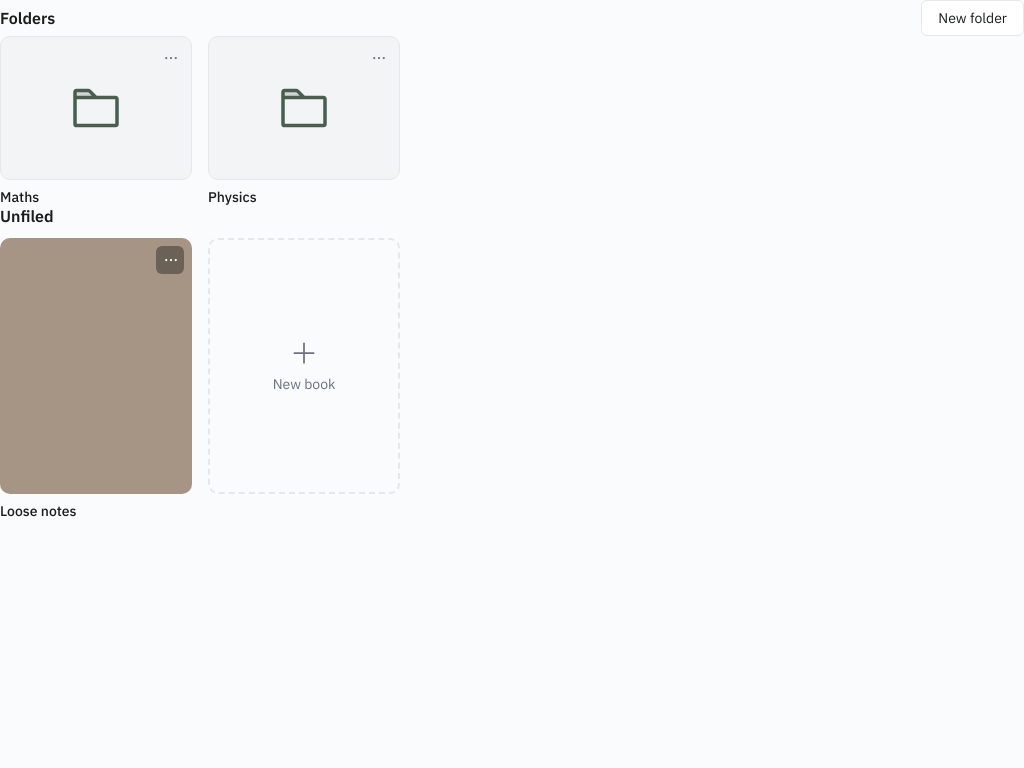
FolderView › moves a folder from its menu, greying itself and its subfolders
Click the button named "Actions for folder Maths": (170,58) x1=156 y1=44 x2=184 y2=72
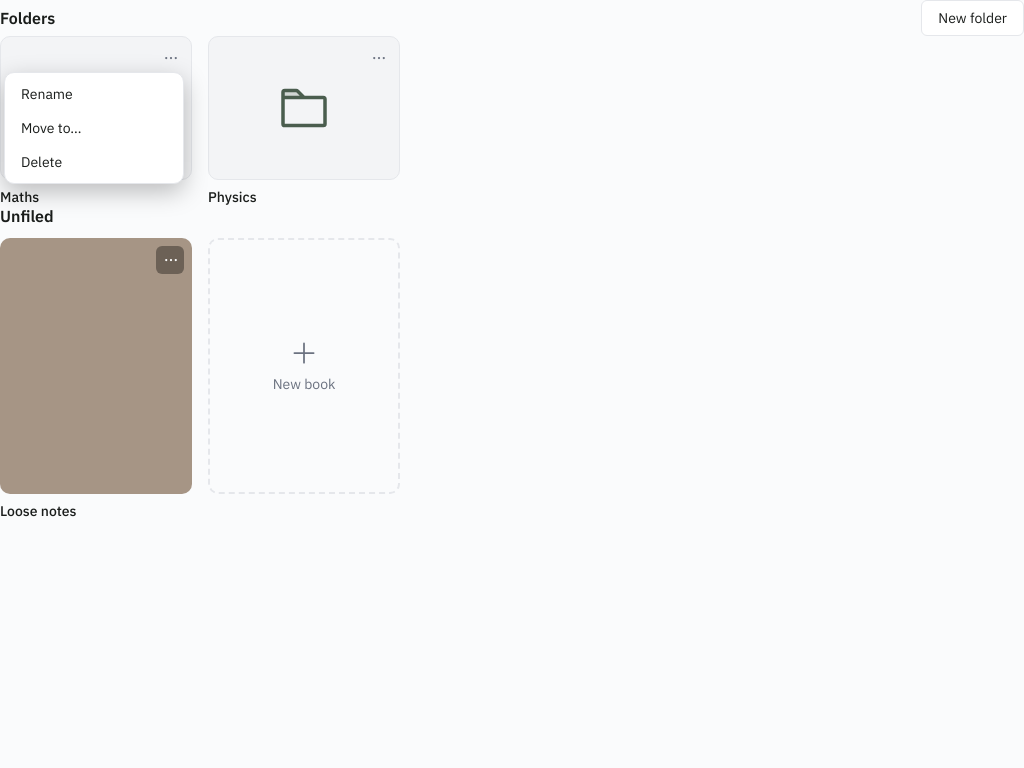
Click the menu item "Move to…": (94,128) x1=9 y1=111 x2=179 y2=145
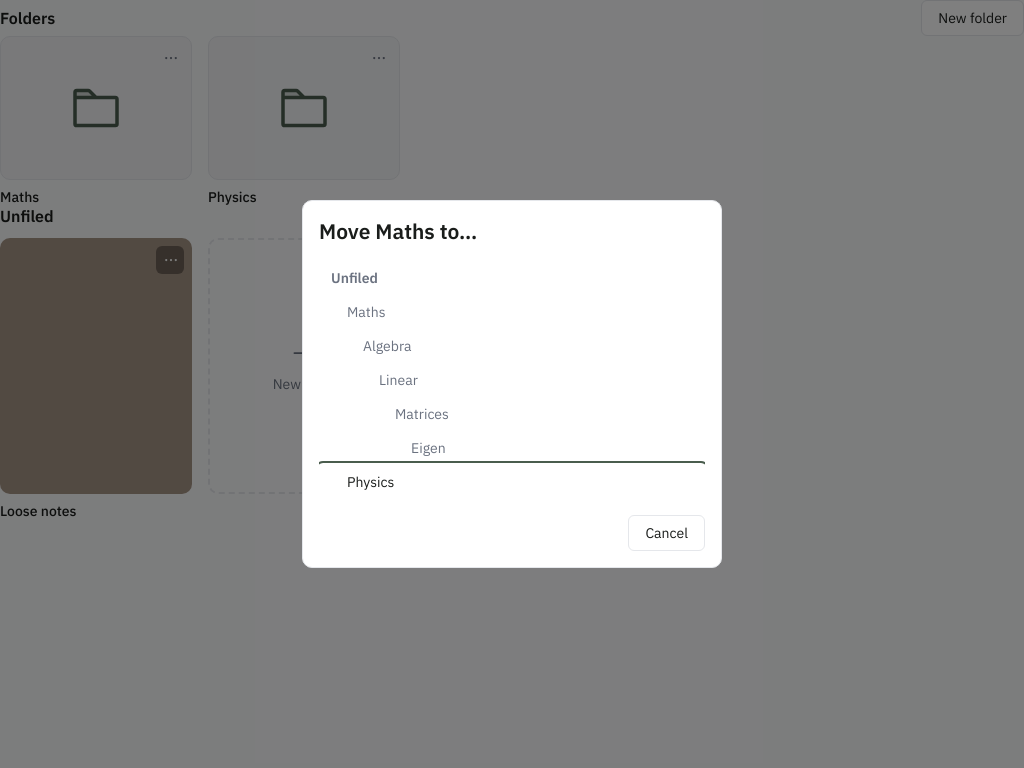
expect the button "Maths" is disabled: met, box x1=319 y1=295 x2=705 y2=329
expect the button "Eigen" is disabled: met, box x1=319 y1=431 x2=705 y2=465
expect the button "Unfiled" is disabled: met, box x1=319 y1=261 x2=705 y2=295
Click the button "Physics": (371,482) x1=319 y1=465 x2=705 y2=499
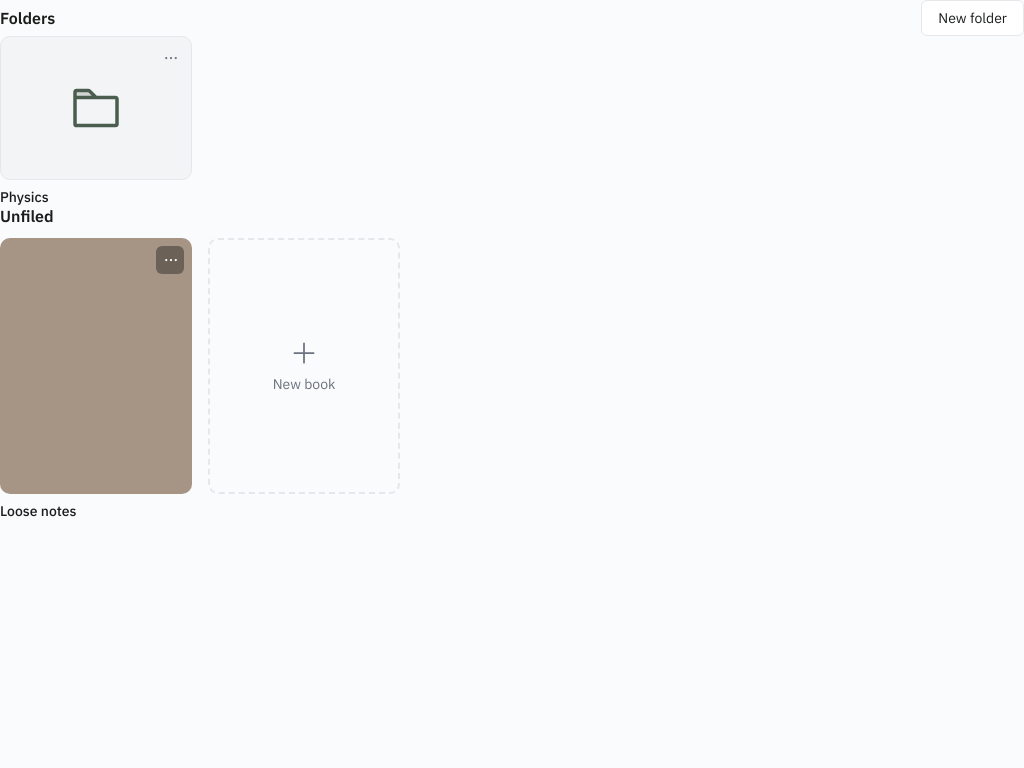
expect the dialog is gone: met
